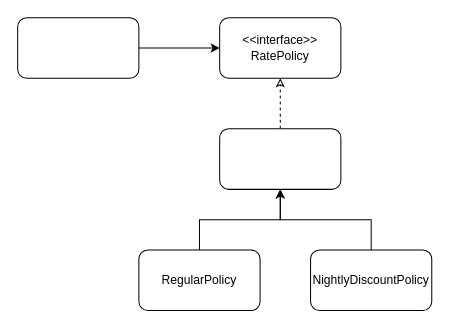
This 449x328 diagram has some shape labels left out. Each missing label, with the box of its shape:
BasicRatePolicy: (219, 128, 341, 189)
Phone: (17, 17, 139, 78)
